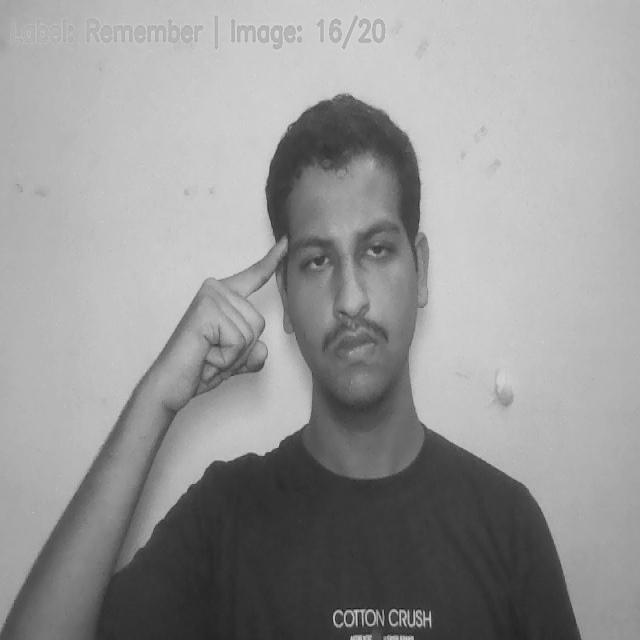Remember: (149, 232, 288, 420)
